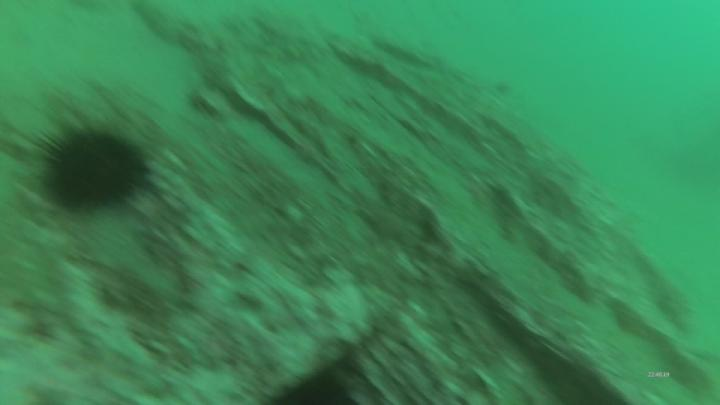echinus: (30, 121, 154, 222), (263, 369, 359, 405)
